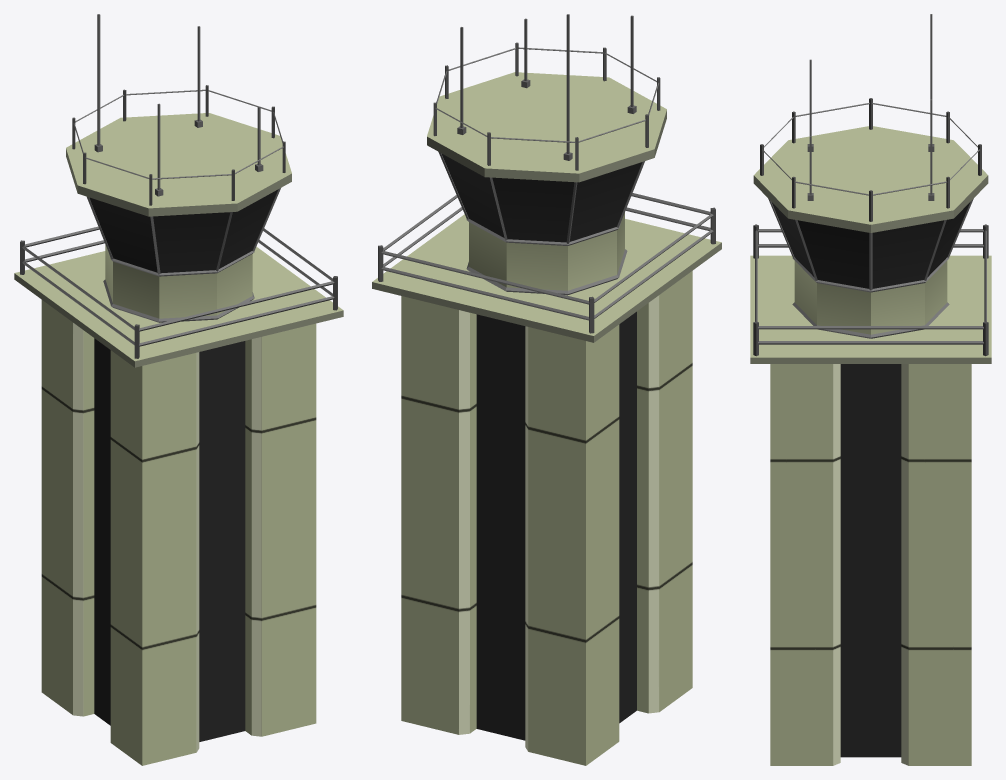
Rendered from Radio Tower.fbx.
3 renders of one model, left to right at view 1: azimuth 30°, elevation 25°; view 2: azimuth 150°, elevation 25°; view 3: azimuth 270°, elevation 25°, orthographic. The views are drawn at different scales.
Visible parts, largest first — view 1: RadioTower; view 2: RadioTower; view 3: RadioTower.
Part boxes in pixels (x1,y1,x2,y2): RadioTower: [14, 14, 343, 765]; RadioTower: [372, 14, 721, 765]; RadioTower: [750, 14, 991, 765].
Bounding box in the file's own units: 540 × 1689 × 540.
1 material, 1 textured.
